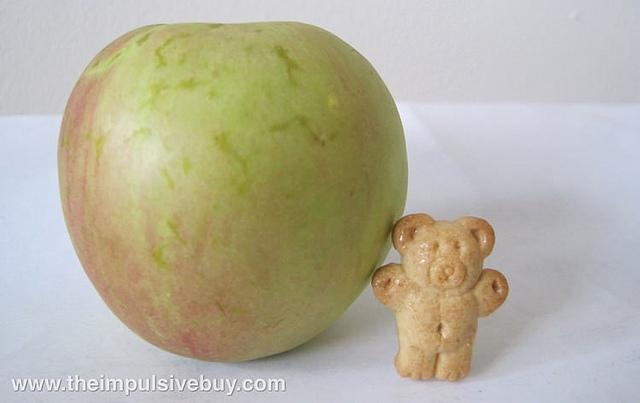apple: (58, 20, 408, 362)
